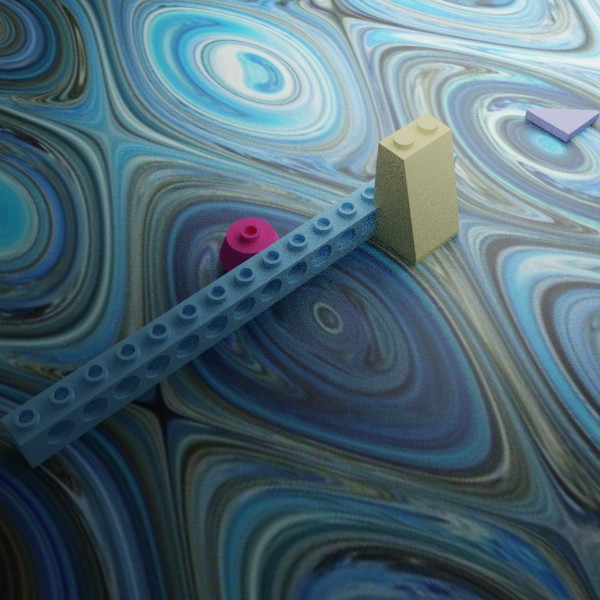lego: (0, 139, 457, 468), (369, 112, 459, 265), (219, 217, 284, 283), (524, 107, 600, 142)
